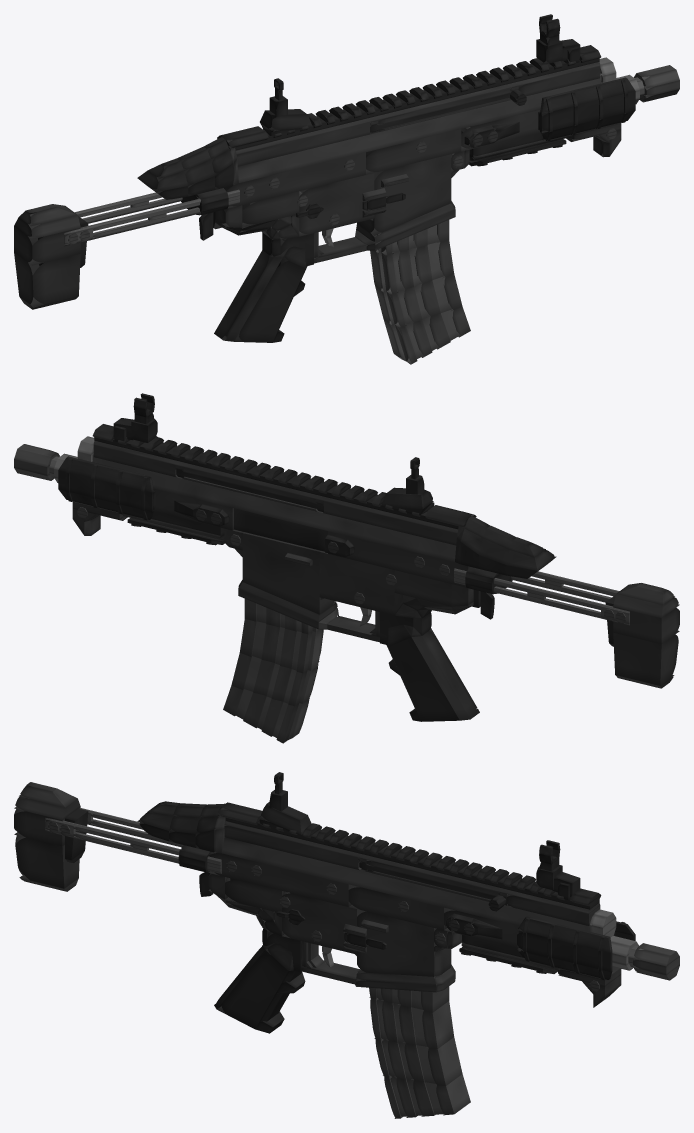
The model's file is fnscarsc.obj.
The picture shows the model from 3 angles, top to bottom: view 1: azimuth 30°, elevation 25°; view 2: azimuth 150°, elevation 25°; view 3: azimuth 330°, elevation 25°; orthographic projection.
Visible parts, largest first — view 1: gunModel66, gunModel2, gunModel3, gunModel65, defaultGripModel0, gunModel268, gunModel115, gunModel100, gunModel50, gunModel114, gunModel67, gunModel274 (+25 smaller); view 2: gunModel66, gunModel2, gunModel3, defaultGripModel0, gunModel268, gunModel65, gunModel115, gunModel50, gunModel100, gunModel114, gunModel67, gunModel278 (+24 smaller); view 3: gunModel66, gunModel2, gunModel65, gunModel3, defaultGripModel0, gunModel268, gunModel115, gunModel100, gunModel114, gunModel67, gunModel274, gunModel275 (+28 smaller).
Part boxes in pixels (x1,y1,x2,y2): gunModel66: (215, 78, 601, 184); gunModel2: (357, 154, 451, 235); gunModel3: (291, 173, 374, 236); gunModel65: (224, 152, 365, 208); defaultGripModel0: (225, 258, 305, 342); gunModel268: (14, 252, 80, 306); gunModel115: (229, 58, 599, 151); gunModel100: (366, 129, 461, 174); gunModel50: (214, 250, 282, 341); gunModel114: (236, 62, 600, 154); gunModel67: (233, 122, 369, 166); gunModel274: (540, 91, 635, 132); gunModel66: (92, 457, 456, 561); gunModel2: (242, 532, 336, 614); gunModel3: (319, 551, 394, 615); defaultGripModel0: (388, 630, 459, 721); gunModel268: (613, 633, 678, 685); gunModel65: (328, 531, 469, 587); gunModel115: (94, 437, 458, 529); gunModel50: (411, 629, 479, 720); gunModel100: (234, 508, 327, 551); gunModel114: (93, 440, 458, 533); gunModel67: (324, 501, 457, 545); gunModel278: (58, 470, 153, 511); gunModel66: (222, 837, 589, 931); gunModel2: (357, 911, 436, 976); gunModel65: (208, 851, 359, 906); gunModel3: (282, 891, 366, 954); defaultGripModel0: (217, 954, 289, 1029); gunModel268: (15, 835, 79, 888); gunModel115: (219, 816, 599, 909); gunModel100: (348, 887, 455, 930); gunModel114: (224, 821, 600, 913); gunModel67: (224, 826, 361, 869); gunModel274: (517, 928, 612, 971); gunModel275: (517, 916, 612, 952).
Bounding box in the file's own units: 19.45 × 8.82 × 1.43.
